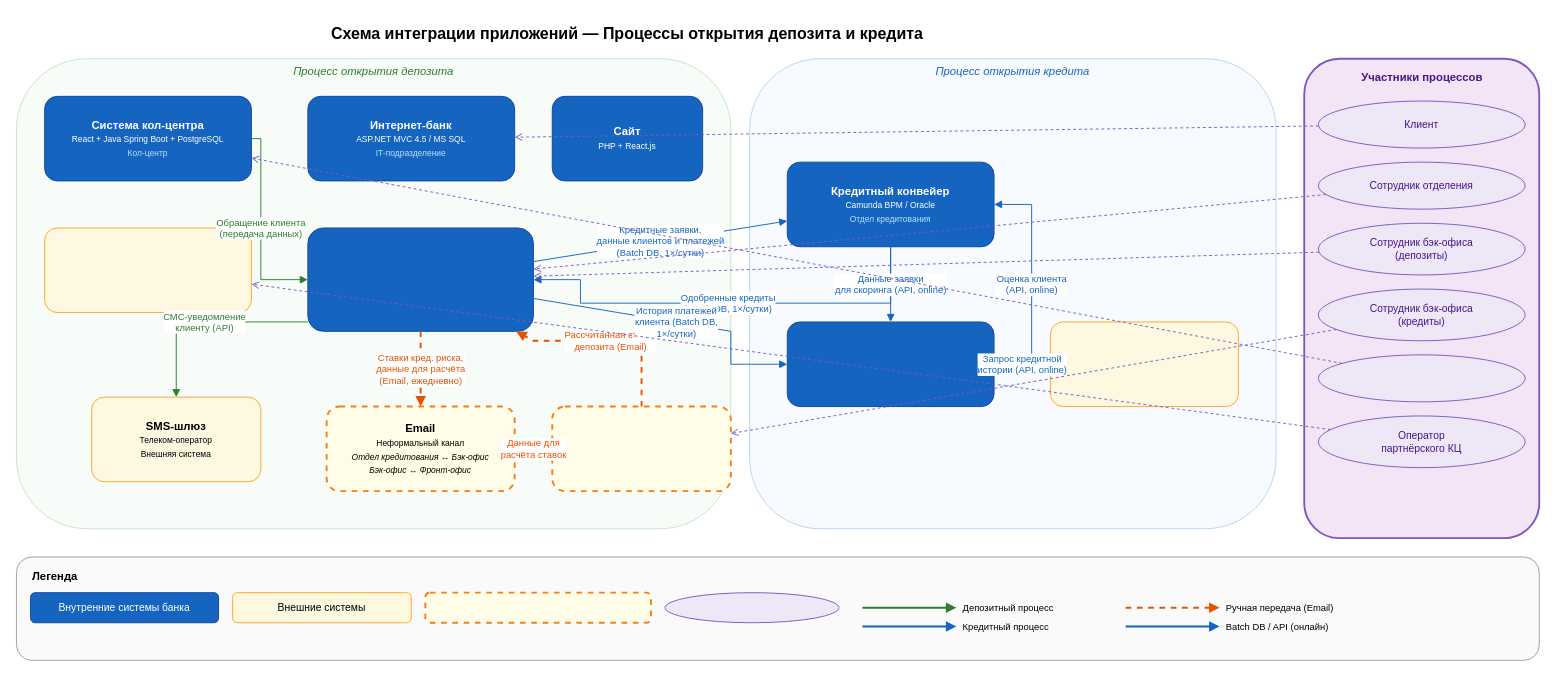
Some shapes in this 1557 by 677 pixel diagram are drawn without their labels. Each missing label, with the centre of its shape:
"Excel-файлы Неформальный инструмент Расчёт ставок депозитов" belongs at (x=641, y=448).
"АБС Delphi / Oracle Фронт-офис, Бэк-офис депозитов, Отдел кредитования" belongs at (x=420, y=279).
"БКИ Бюро кредитных историй Внешний API" belongs at (x=1144, y=364).
"Неформальные каналы / инструменты" belongs at (x=537, y=607).
"Оператор КЦ" belongs at (x=1421, y=378).
"Партнёрская система кол-центра Внешняя система Партнёрский кол-центр" belongs at (x=147, y=270).
"Скоринговая система Python / Flask / PostgreSQL" belongs at (x=890, y=364).
"Участник процесса" belongs at (x=751, y=607).
